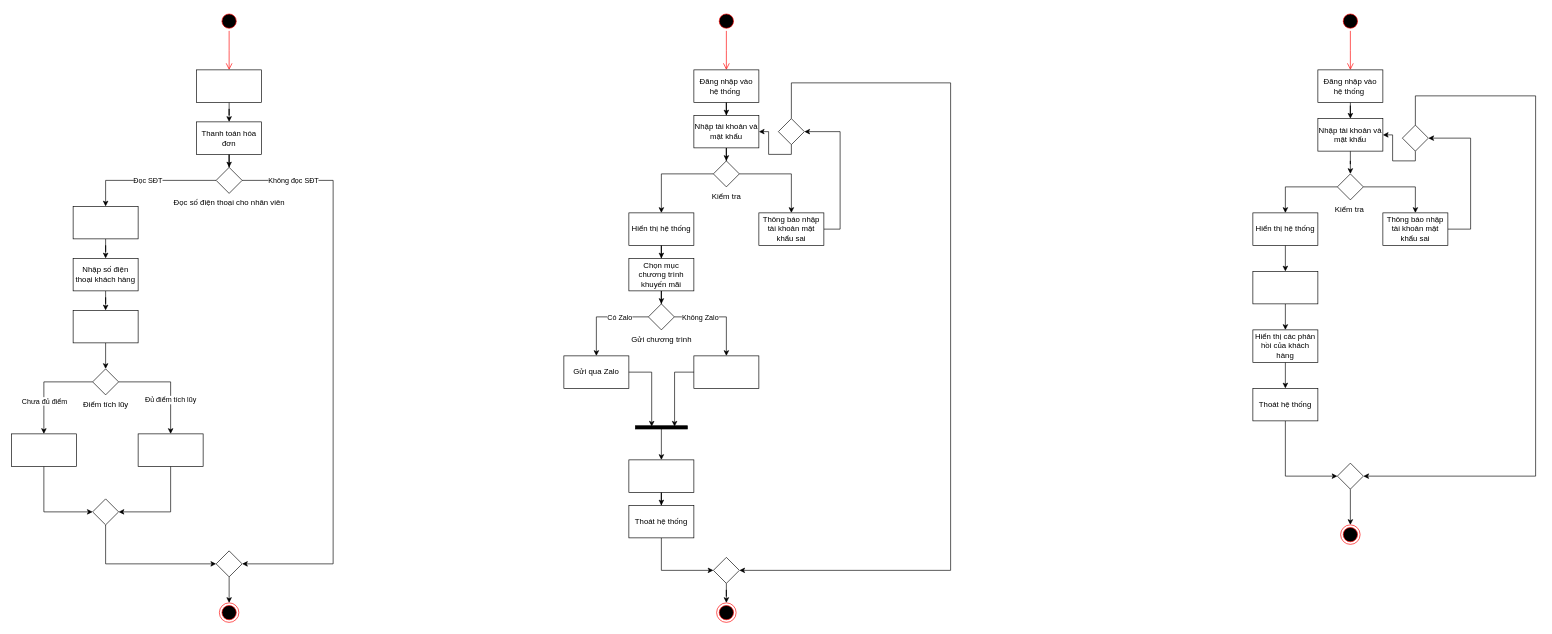
This 1552x634 diagram has some shape labels left out. Each missing label, with the centre of its shape:
Chiết khấu cho bữa ăn: point 170,449
Chọn mục xem phản hồi khách hàng: point 1285,287
Cộng điểm tích lũy: point 43,449
Gửi qua SMS: point 726,371
Khánh hàng đến ăn: point 229,85
Mở hệ thống: point 105,222
Nhập điểm tích lũy vào hệ thống: point 105,326
Xác nhận gửi: point 661,475
